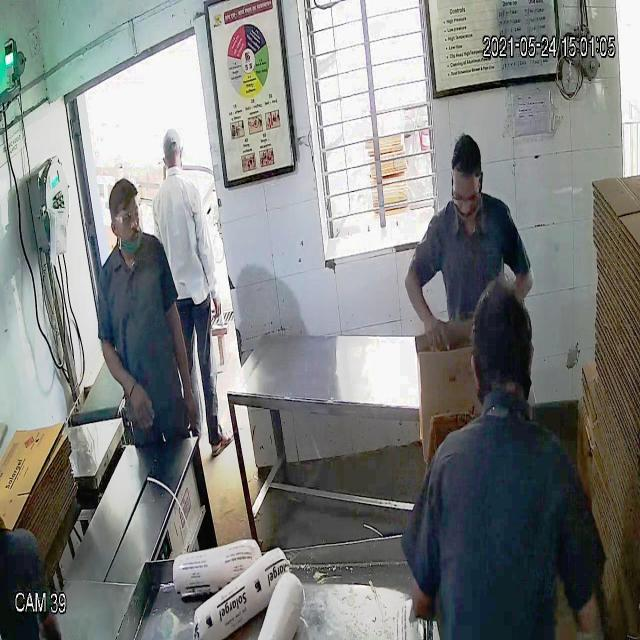glasses: (448, 176, 484, 211), (108, 206, 144, 231)
